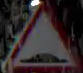Speed Breaker ahead: (2, 1, 80, 72)
